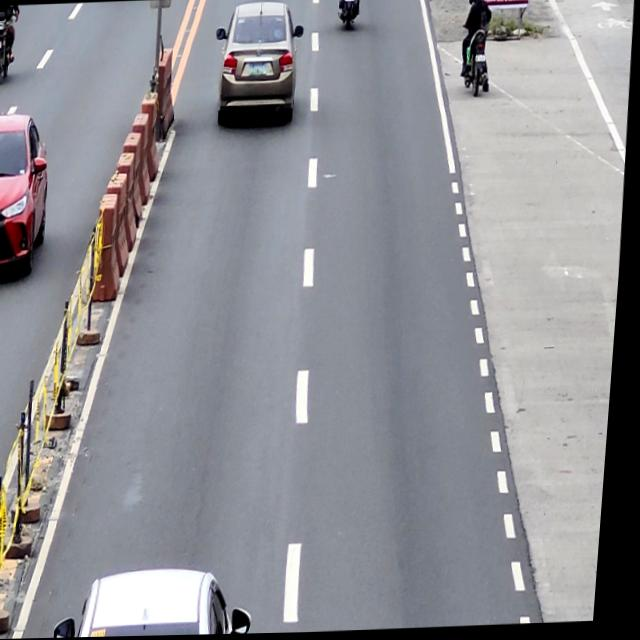Car: (61, 568, 264, 638), (209, 1, 308, 132)
License-Plate: (248, 63, 269, 78), (475, 55, 487, 66)
Motorcycle: (458, 12, 494, 104)
